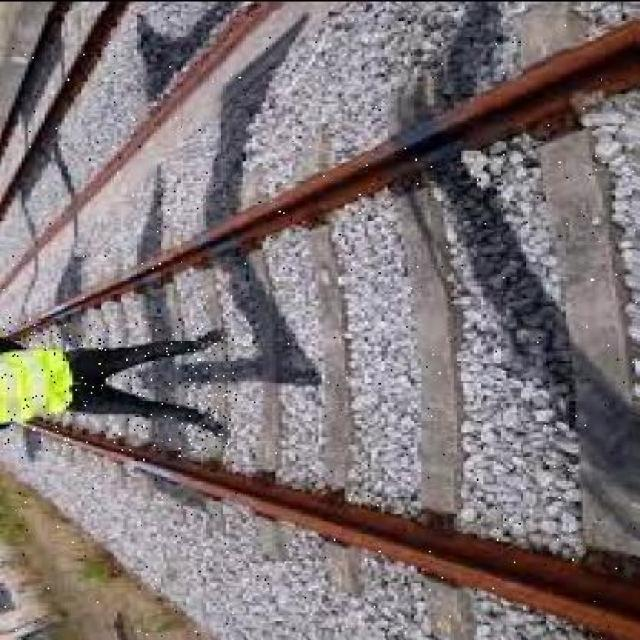danger: (1, 320, 237, 449)
rail: (1, 10, 637, 638)
